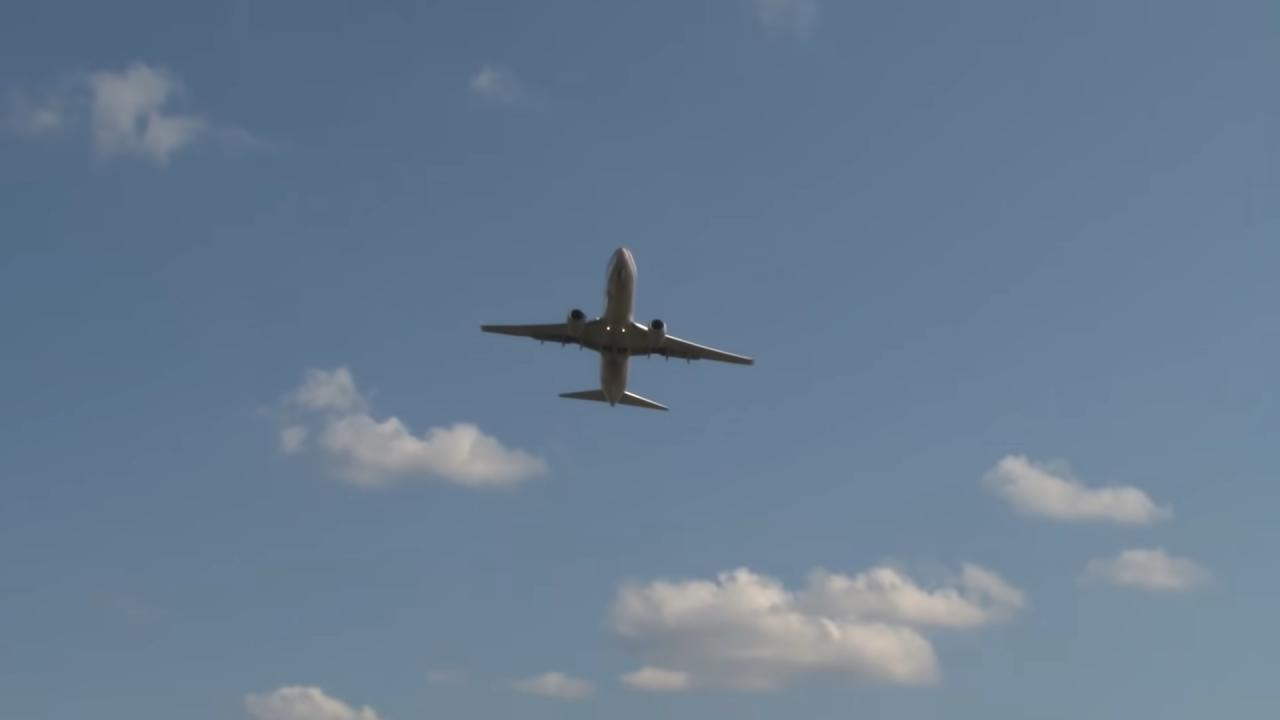Airplane: (472, 228, 765, 424)
